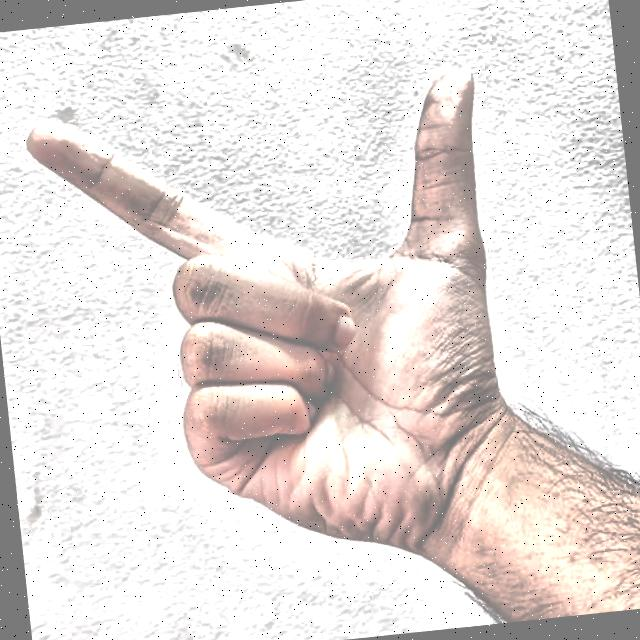ChandraBindu: (9, 0, 575, 609)
